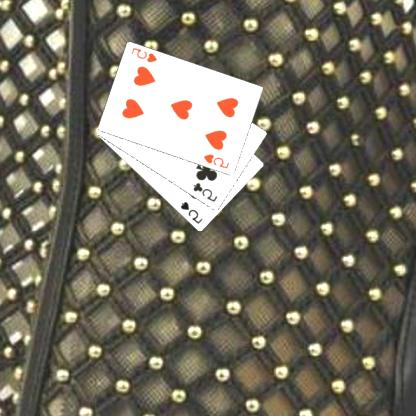5C: (192, 180, 221, 204)
5H: (130, 45, 161, 64), (202, 152, 233, 170)
5S: (179, 199, 206, 225)
